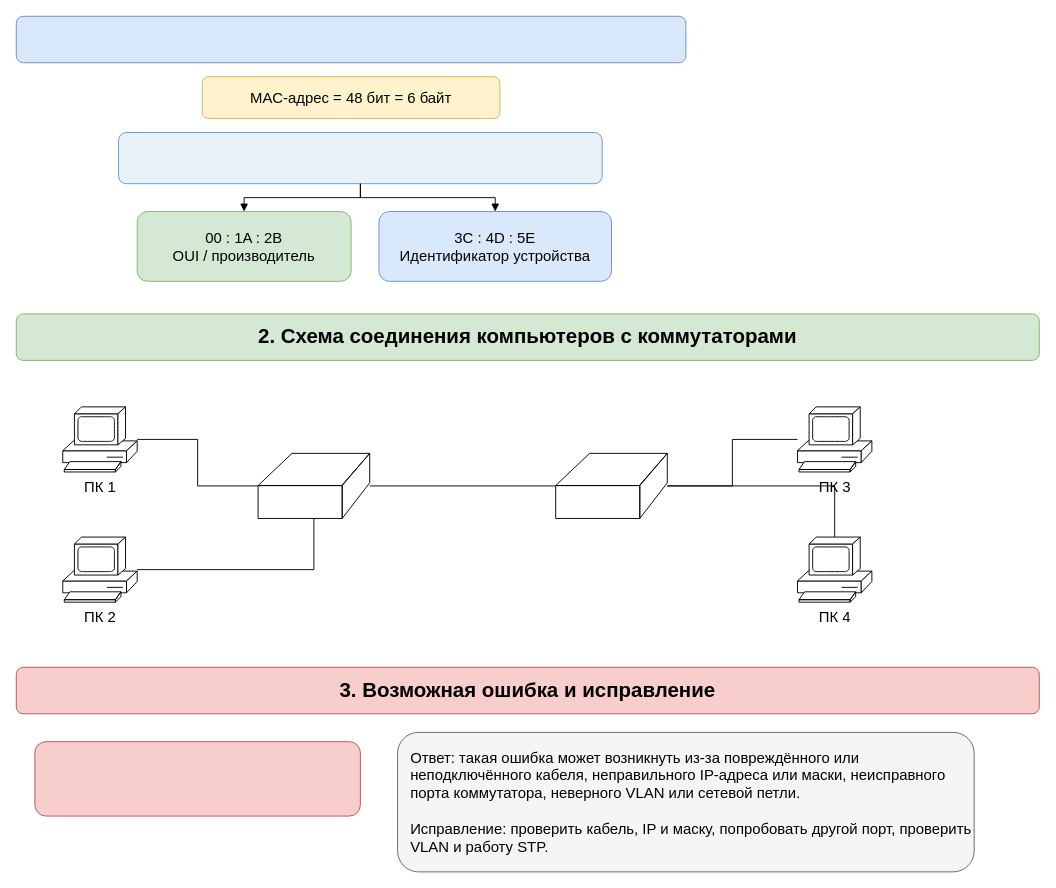
Some shapes in this 1056 by 888 pixel diagram are drawn without their labels. The shapes that lost their labels are listed below. From the top down, each one's centre as x and y in pixels, then its label:
the point at 350,39: 1. Схема MAC-адреса
the point at 360,158: 00 : 1A : 2B : 3C : 4D : 5E
the point at 313,485: Коммутатор 1
the point at 611,485: Коммутатор 2
the point at 197,778: Ошибка: ПК 3 не видит сеть / нет связи
